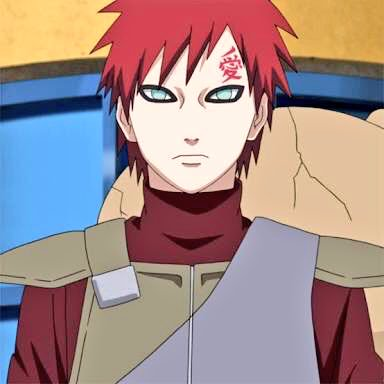gaara: (115, 24, 270, 196)
